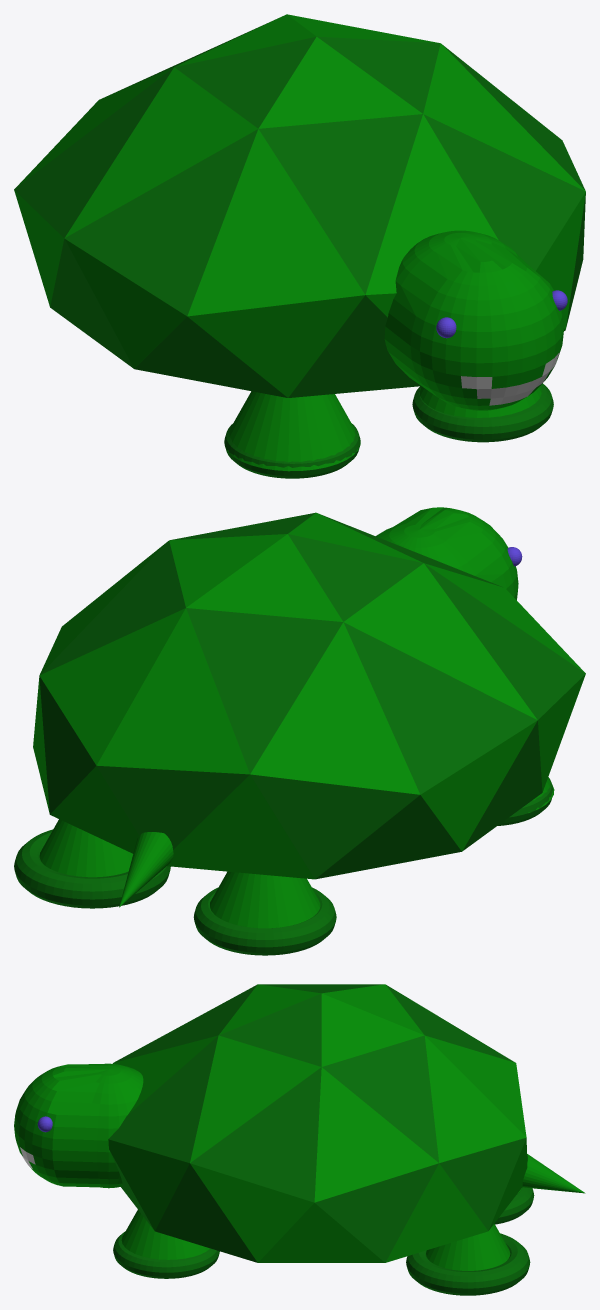
File: Frederick.fbx
3 renders of one model, top to bottom at view 1: azimuth 30°, elevation 25°; view 2: azimuth 150°, elevation 25°; view 3: azimuth 270°, elevation 25°, orthographic. The views are drawn at different scales.
Parts seen in each view (by area): view 1: Icosphere; view 2: Icosphere; view 3: Icosphere.
Part boxes in pixels (x1,y1,x2,y2): Icosphere: (14,14,585,478); Icosphere: (14,507,585,955); Icosphere: (14,984,585,1295).
Bounding box in the file's own units: 460 × 283 × 605.
